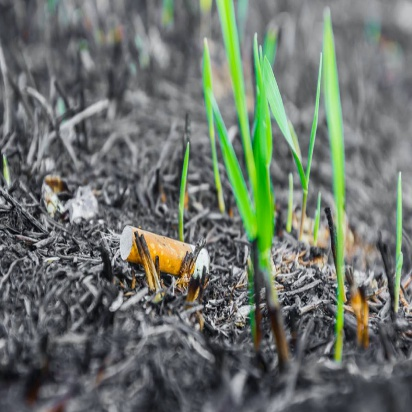cigarette: (110, 218, 217, 286)
